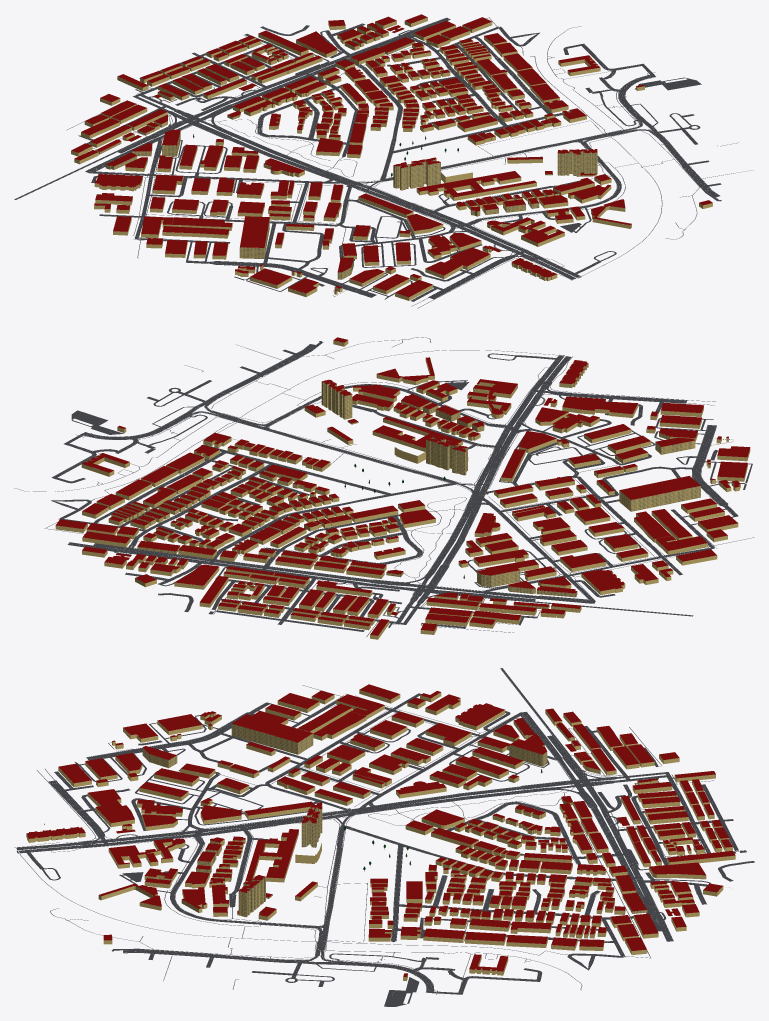
Rendered from osm3d.glb.
The picture shows the model from 3 angles, top to bottom: view 1: azimuth 30°, elevation 25°; view 2: azimuth 150°, elevation 25°; view 3: azimuth 270°, elevation 25°; orthographic projection. The views are drawn at different scales.
Visible parts, largest first — view 1: RoofingTiles010, Plaster002, ASPHALT, Windows, Concrete034, KERB; view 2: RoofingTiles010, Plaster002, ASPHALT, Windows, Concrete034, KERB; view 3: RoofingTiles010, Plaster002, ASPHALT, Concrete034, Windows, KERB.
Boxes of the visible parts, x1,y1,x2,y2 form: RoofingTiles010: (71, 14, 712, 297); Plaster002: (71, 17, 712, 300); ASPHALT: (14, 17, 753, 308); Windows: (99, 43, 596, 279); Concrete034: (93, 26, 738, 280); KERB: (24, 21, 717, 294); RoofingTiles010: (55, 337, 750, 635); Plaster002: (55, 340, 750, 639); ASPHALT: (44, 337, 754, 636); Windows: (137, 382, 700, 608); Concrete034: (14, 339, 716, 616); KERB: (54, 344, 735, 620); RoofingTiles010: (26, 684, 735, 976); Plaster002: (26, 690, 735, 981); ASPHALT: (16, 668, 754, 1006); Concrete034: (14, 693, 659, 995); Windows: (142, 722, 646, 916); KERB: (92, 706, 723, 988).
Bounding box in the file's own units: 1345 × 45.08 × 1242.
18 materials, 17 textured.
